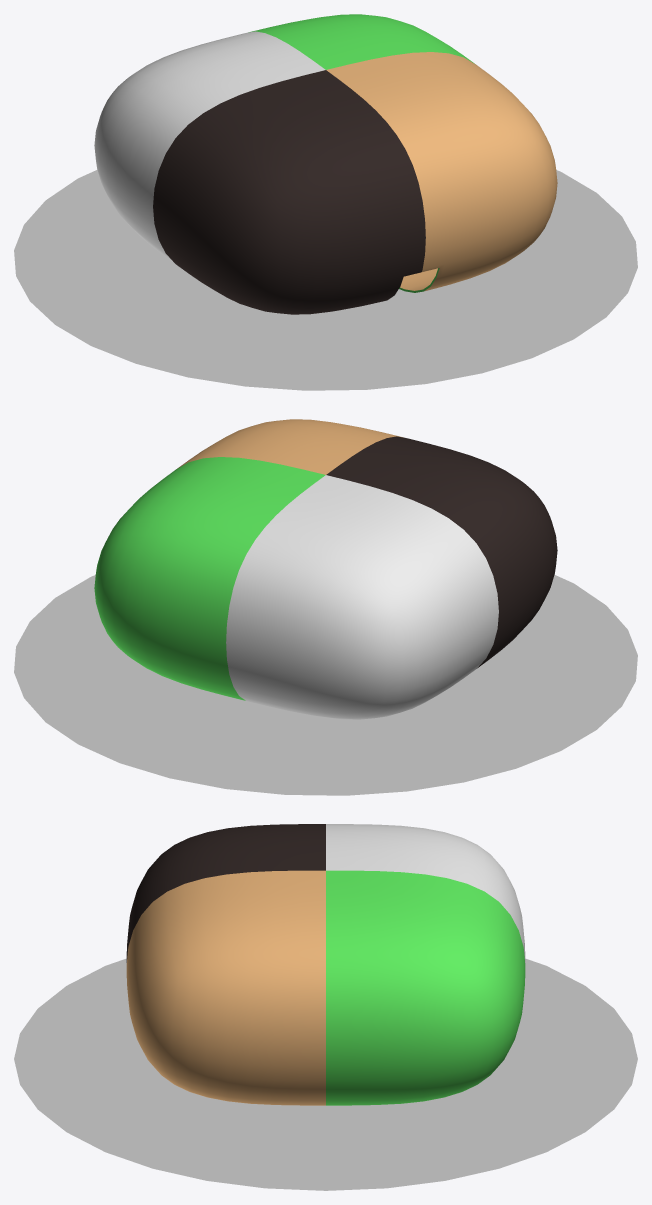
File: model_shape5_height1_surface0_.glb
The picture shows the model from 3 angles, top to bottom: view 1: azimuth 30°, elevation 25°; view 2: azimuth 150°, elevation 25°; view 3: azimuth 270°, elevation 25°; orthographic projection.
Parts seen in each view (by area): view 1: Plane, Circle; view 2: Plane, Circle; view 3: Plane, Circle.
Boxes of the visible parts, x1,y1,x2,y2 form: Plane: (94,14,557,314); Circle: (14,170,637,390); Plane: (94,419,557,719); Circle: (14,575,637,795); Plane: (126,824,525,1105); Circle: (14,958,637,1190).
Bounding box in the file's own units: 30 × 10 × 30.
